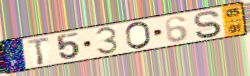3: (94, 26, 120, 56)
5: (54, 32, 81, 61)
6: (163, 15, 190, 44)
O: (124, 21, 153, 51)
S: (193, 10, 223, 40)
T: (27, 36, 52, 67)
